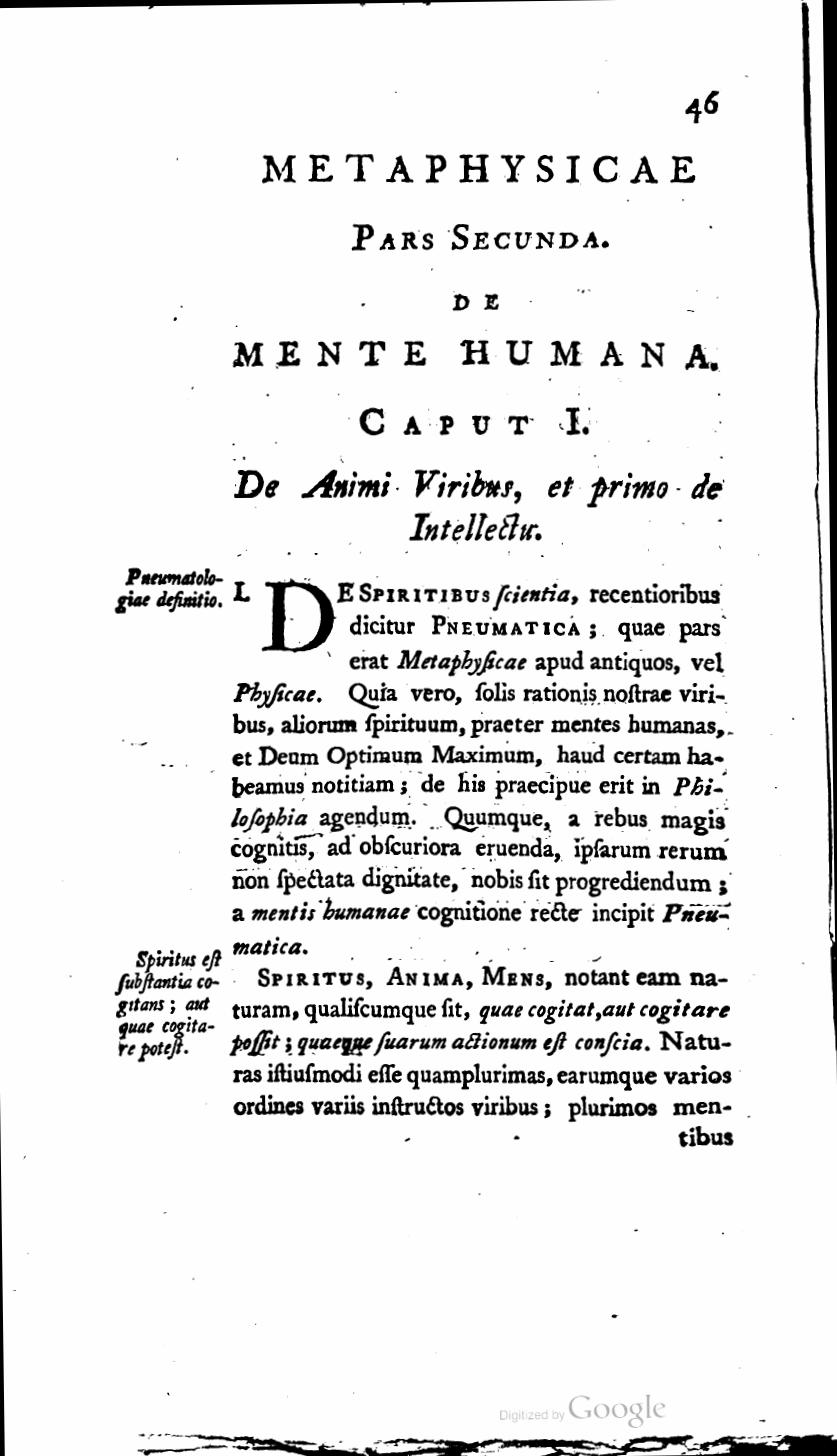catchword: (678, 1120, 736, 1148)
full_p: (228, 576, 732, 960), (232, 466, 728, 546), (256, 146, 702, 194), (226, 334, 722, 376), (346, 216, 616, 256), (356, 402, 592, 442), (448, 286, 504, 314)
initial_l: (262, 580, 338, 658)
page_num: (680, 82, 726, 130)
print_marg: (114, 944, 224, 1064), (110, 564, 232, 614)
top_p: (230, 966, 738, 1124)
